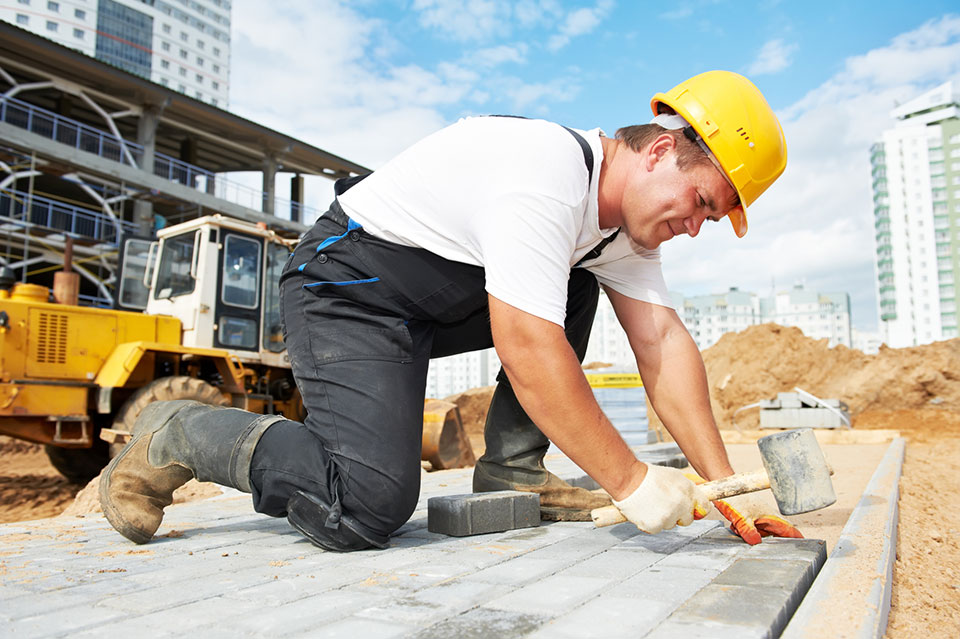With Helmet: (610, 65, 793, 254)
